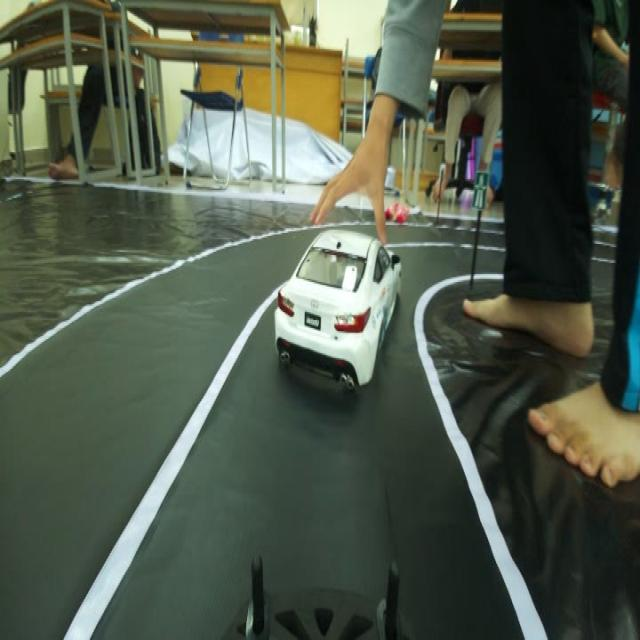car: (264, 210, 405, 400)
highway_entry: (470, 162, 490, 224)
